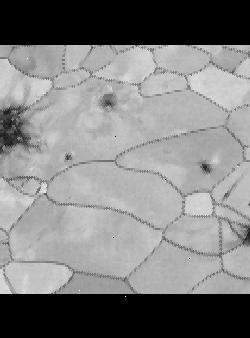good_void: (0, 94, 46, 170), (95, 84, 120, 118), (194, 155, 221, 175), (238, 216, 250, 250), (221, 180, 239, 201), (63, 148, 75, 163), (245, 199, 250, 206)
